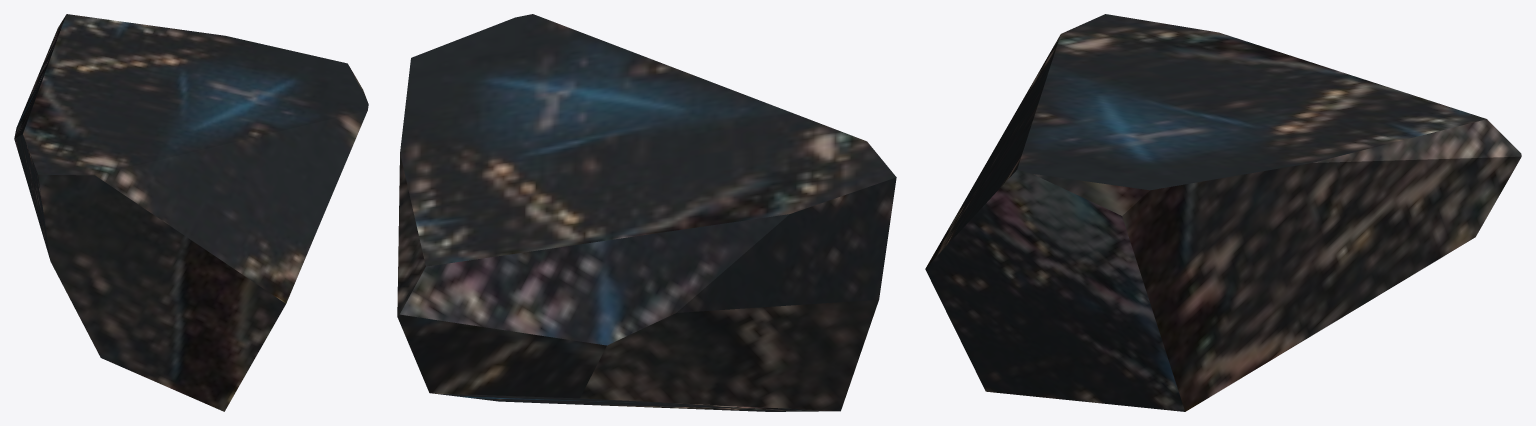
Rendered from ptr4.glb.
3 views of the same model, side by side, from view 1: azimuth 30°, elevation 25°; view 2: azimuth 150°, elevation 25°; view 3: azimuth 270°, elevation 25° (orthographic). The views are drawn at different scales.
Visible parts, largest first — view 1: polySurface755; view 2: polySurface755; view 3: polySurface755.
Part boxes in pixels (x1=…): polySurface755: x1=14, y1=14, x2=368, y2=411; polySurface755: x1=397, y1=14, x2=896, y2=411; polySurface755: x1=925, y1=14, x2=1521, y2=411.
Bounding box in the file's own units: 0.159 × 0.1166 × 0.1989.
Materials: 1 (1 with a texture image).
